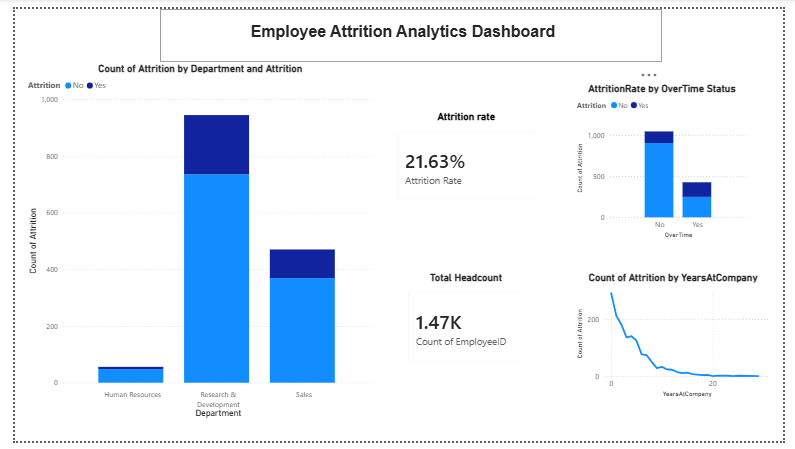

This screenshot's page, from the dashboard's own definition file:
{"tool":"powerbi","page":{"name":"Page 1","canvas":[1280,720],"ordinal":0},"visuals":[{"type":"columnChart","fields":{"Category":["hr_data.Department"],"Series":["hr_data.Attrition"],"Y":["CountNonNull(hr_data.Attrition)"]},"box":[16.1,87.6,584.6,598.9],"z":0},{"type":"cardVisual","title":"Total Headcount","fields":{"Data":["CountNonNull(hr_data.EmployeeID)"]},"box":[638,436.1,226.8,166.8],"z":1000},{"type":"cardVisual","title":"Attrition rate","fields":{"Data":["hr_data.Attrition Rate"]},"box":[620.3,168,264.6,166.3],"z":2000},{"type":"columnChart","title":" AttritionRate by OverTime Status ","fields":{"Category":["hr_data.OverTime"],"Series":["hr_data.Attrition"],"Y":["CountNonNull(hr_data.Attrition)"]},"box":[931.4,121.6,293.2,264.6],"z":3000},{"type":"lineChart","fields":{"Category":["hr_data.YearsAtCompany"],"Y":["CountNonNull(hr_data.Attrition)"]},"box":[931.4,436.2,330.7,214.5],"z":3001},{"type":"textbox","box":[241.3,0,836.6,87.6],"z":3002}]}

Visuals, with their boxes in screenshot pixels (x1, y1, x2, y2), scaled from the page's 1280x720 canvas onto the 795x449 screenshot:
columnChart - hr_data.Department x hr_data.Attrition: 10,55,373,428
"Total Headcount" cardVisual: 396,272,537,376
"Attrition rate" cardVisual: 385,105,550,208
" AttritionRate by OverTime Status " columnChart: 578,76,761,241
lineChart - hr_data.YearsAtCompany x CountNonNull(hr_data.Attrition): 578,272,784,406
textbox: 150,0,669,55
